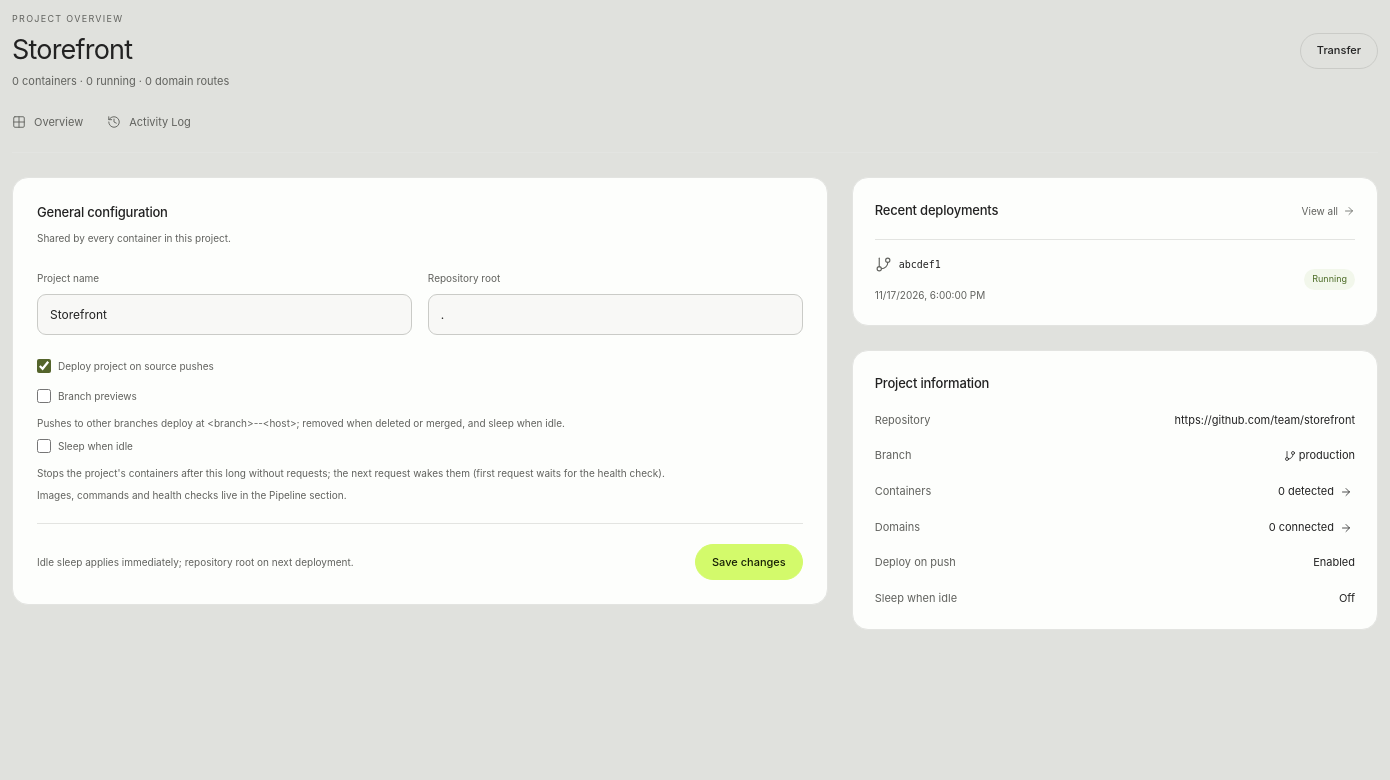
project overview › shows save errors without claiming settings were applied
This screenshot has width=1390, height=780.
Click the button "Save changes" at [749, 562], box [695,544,803,580]
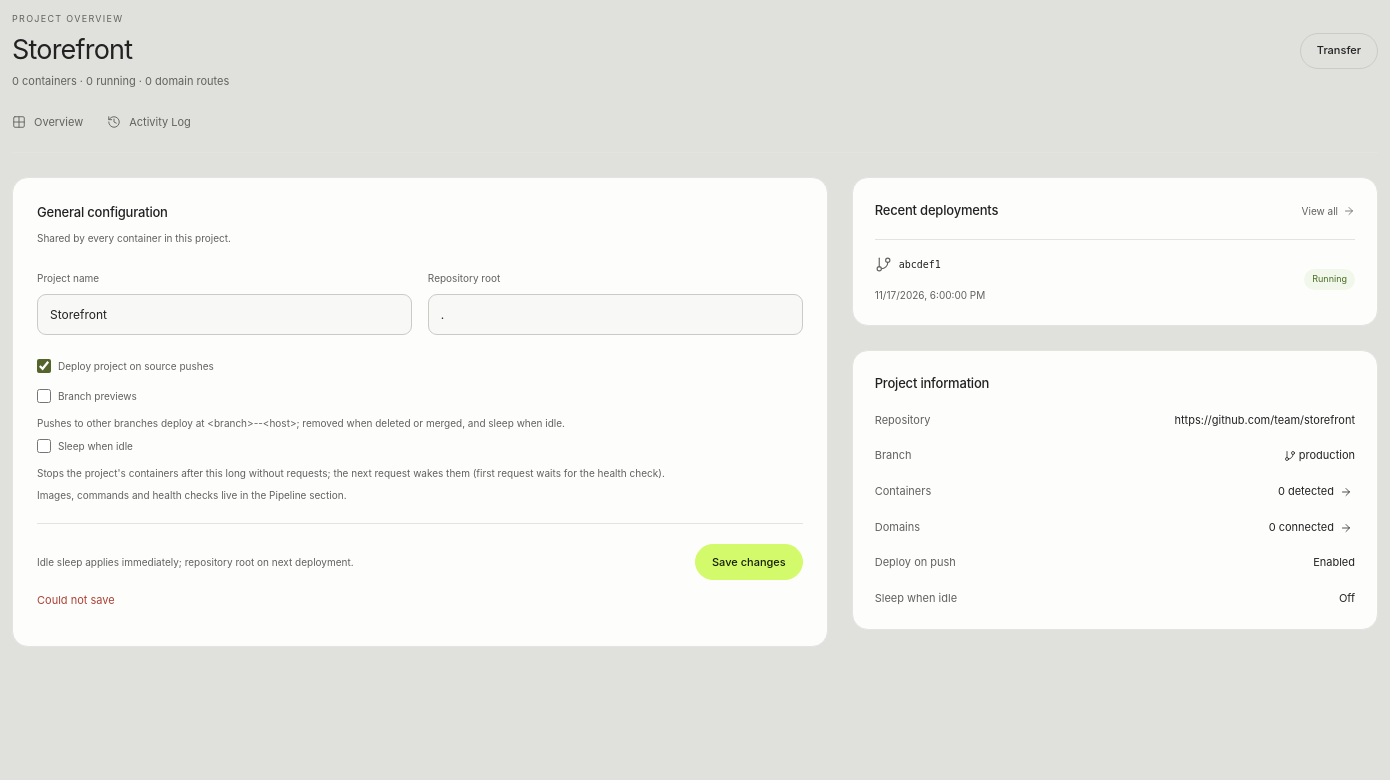
expect the message reads "Could not save": met, box [37,593,115,607]
